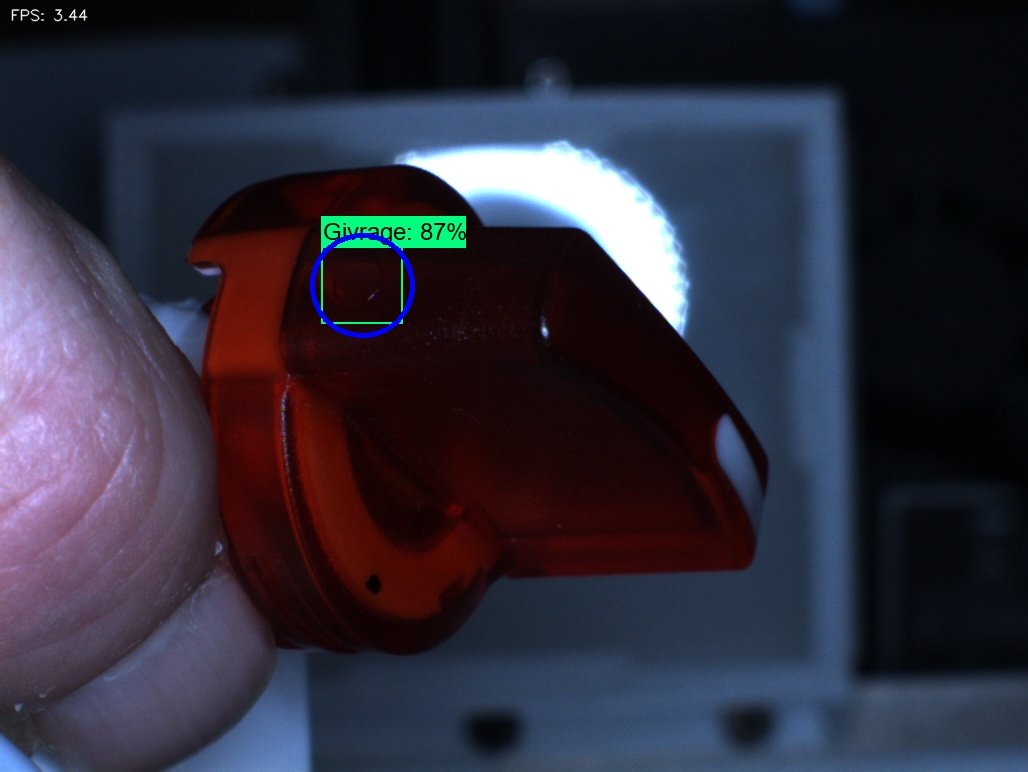PointNoir: (332, 549, 416, 632)
